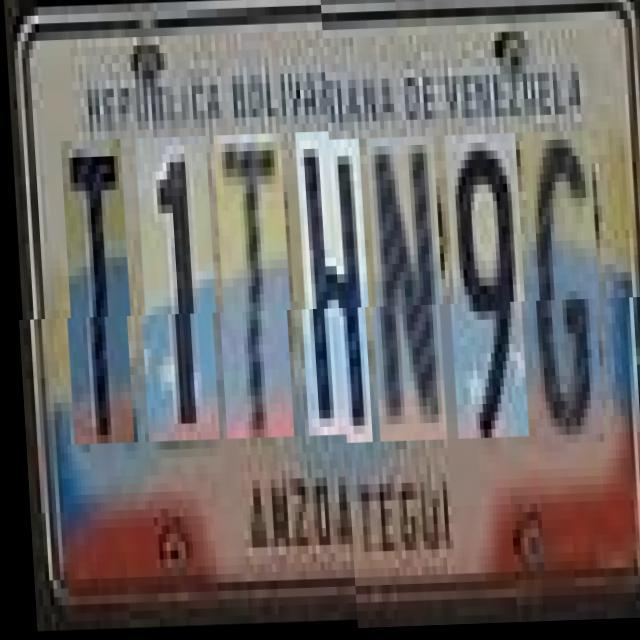1: (134, 146, 218, 451)
9: (442, 137, 527, 442)
G: (520, 135, 602, 448)
H: (293, 141, 371, 446)
N: (364, 139, 445, 444)
T: (212, 144, 292, 448), (59, 148, 133, 453)
